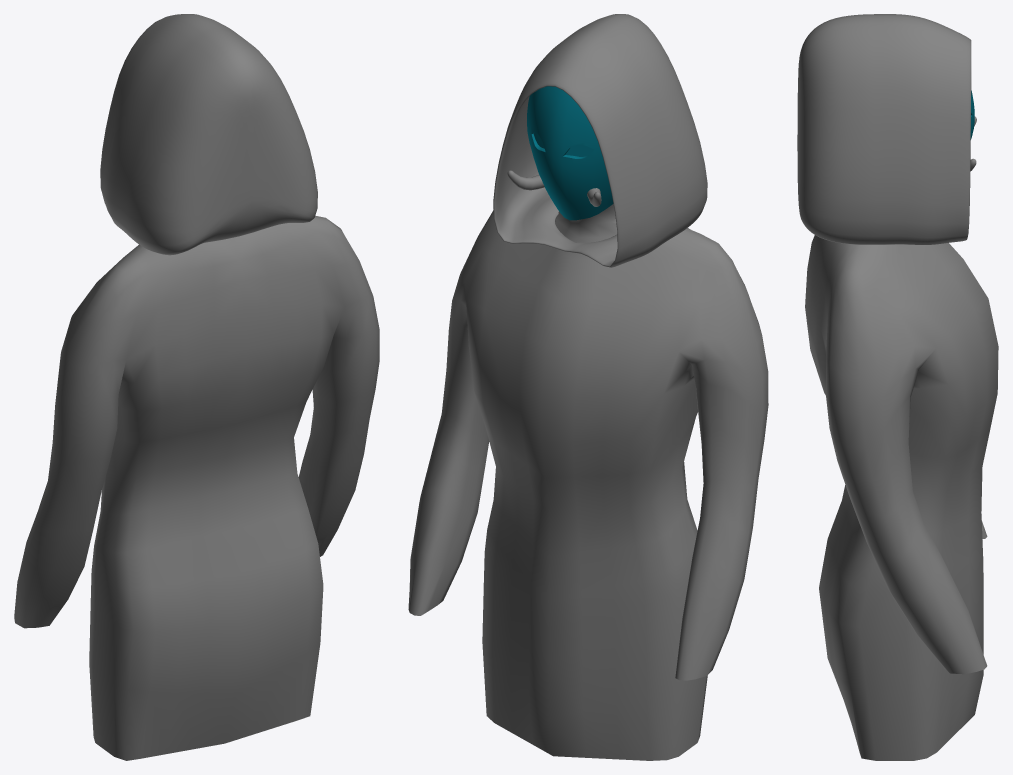
The model's file is BoarWalduś.fbx.
The picture shows the model from 3 angles, left to right: view 1: azimuth 30°, elevation 25°; view 2: azimuth 150°, elevation 25°; view 3: azimuth 270°, elevation 25°; orthographic projection.
Parts seen in each view (by area): view 1: Walduś, Hood; view 2: Walduś, Hood, Mask001, Line002; view 3: Walduś, Hood.
Part boxes in pixels (x1,y1,x2,y2): Walduś: (14, 216, 379, 760); Hood: (100, 14, 317, 255); Walduś: (408, 204, 768, 760); Hood: (493, 14, 707, 267); Mask001: (527, 86, 613, 220); Line002: (507, 170, 601, 206); Walduś: (805, 235, 998, 760); Hood: (797, 14, 971, 244).
Size of the model in its own units: 53.51 by 111 by 28.91.
